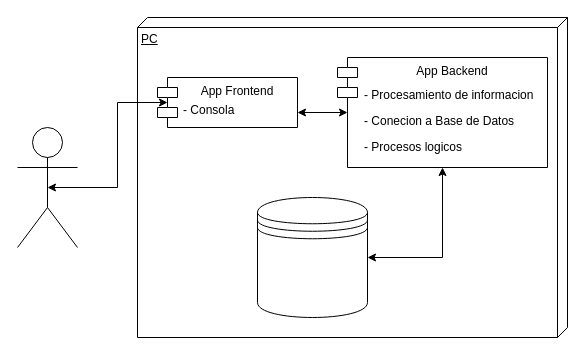
This 585x355 diagram has some shape labels left out. Each missing label, with the centre of its shape:
Actor: (x=47, y=187)
HogarGestorDB (Local): (x=312, y=257)
